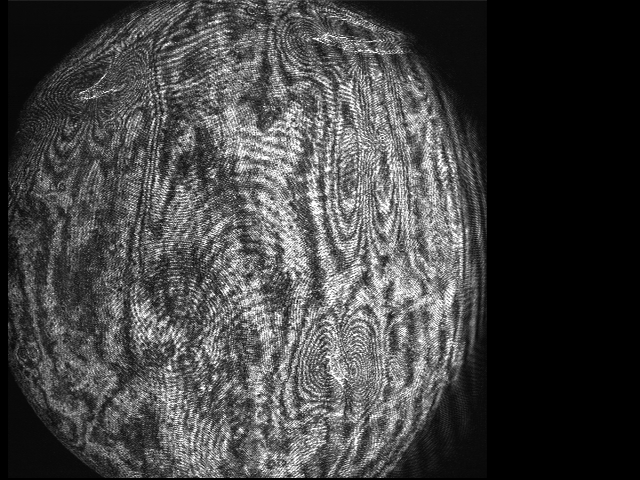plume: (296, 307, 382, 406)
